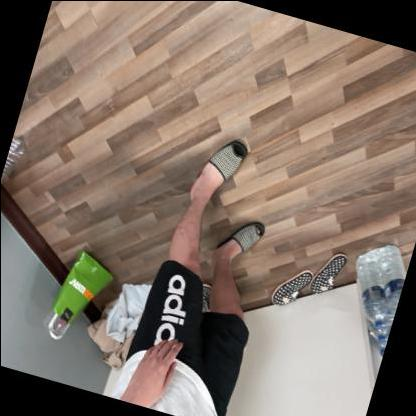no_safety-shoe: (179, 122, 243, 215), (206, 208, 268, 277)
